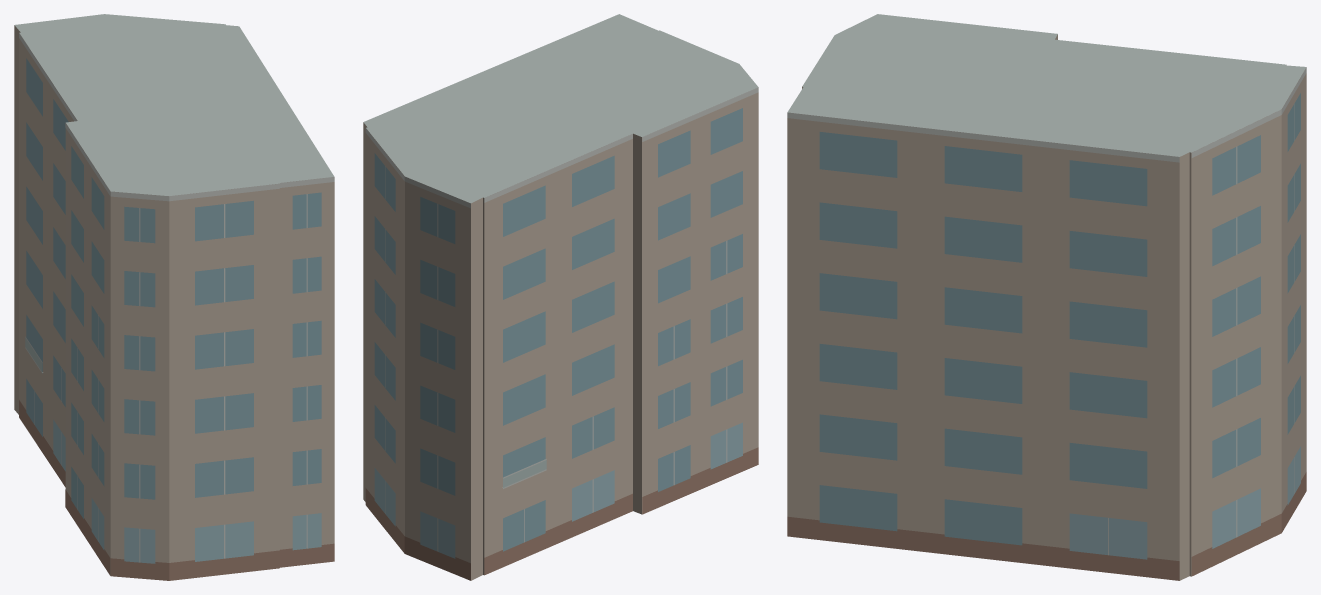
Rendered from survey-upis-32579696.glb.
3 views of the same model, side by side, from view 1: azimuth 30°, elevation 25°; view 2: azimuth 150°, elevation 25°; view 3: azimuth 270°, elevation 25° (orthographic). The views are drawn at different scales.
Visible parts, largest first — view 1: survey-upis-32579696.tmp; view 2: survey-upis-32579696.tmp; view 3: survey-upis-32579696.tmp.
Part boxes in pixels (box(x1,y1,x2,y2)): survey-upis-32579696.tmp: box(14, 14, 334, 580); survey-upis-32579696.tmp: box(363, 14, 758, 580); survey-upis-32579696.tmp: box(787, 14, 1306, 580).
Bounding box in the file's own units: 13.24 × 18.3 × 20.33.
